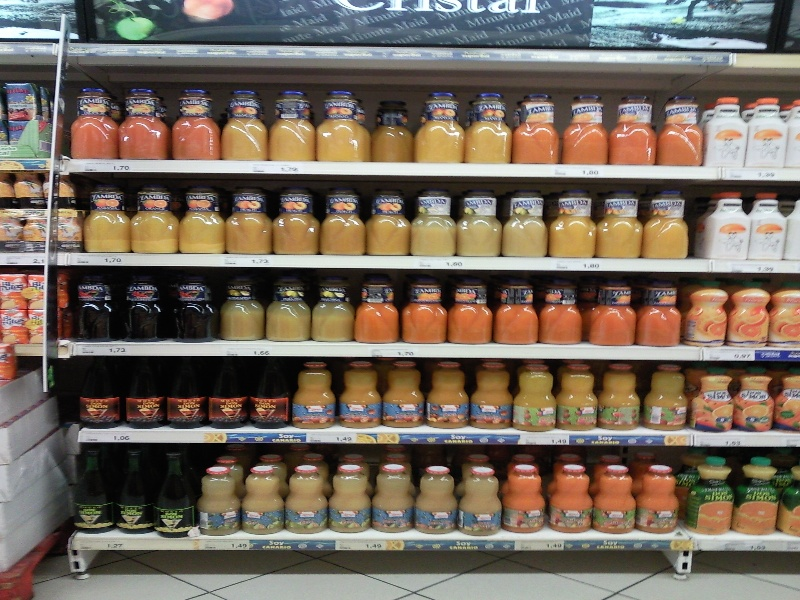juice: (1, 273, 31, 309), (1, 312, 31, 345)
